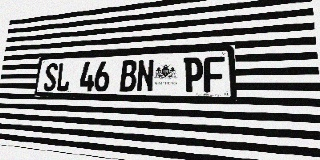4: (79, 61, 96, 91)
6: (94, 61, 111, 92)
B: (120, 60, 137, 92)
F: (204, 56, 225, 93)
L: (56, 62, 71, 91)
N: (136, 59, 154, 92)
P: (184, 57, 203, 93)
S: (43, 63, 58, 91)
